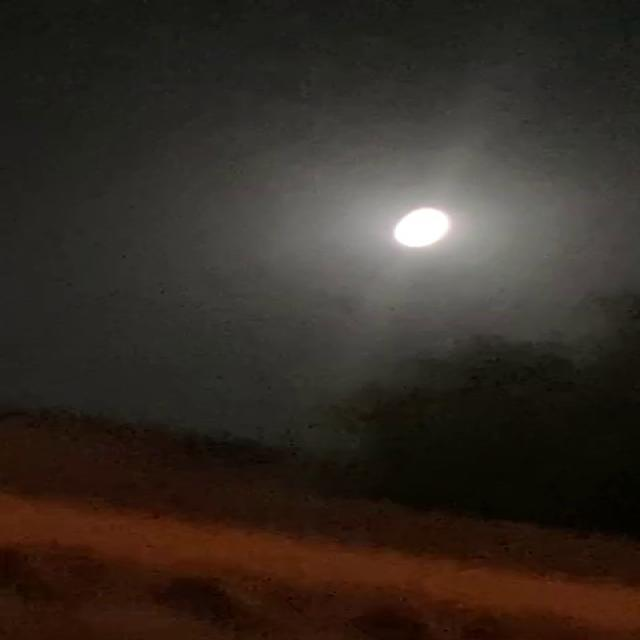moon: (361, 173, 439, 218)
